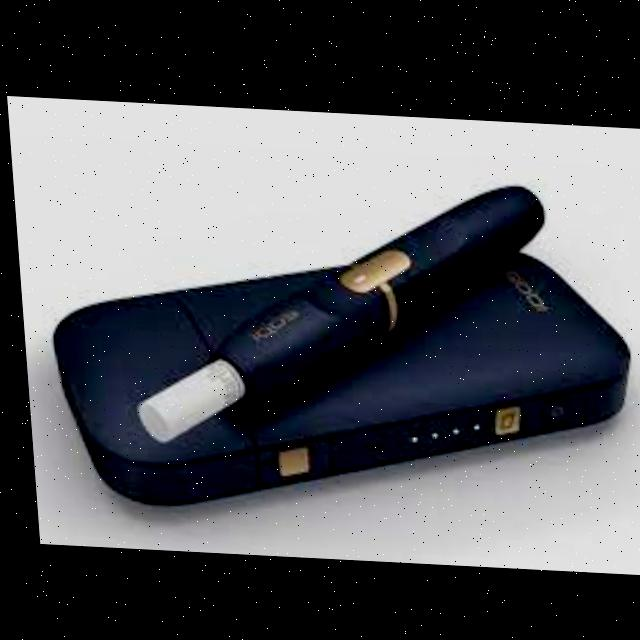vape: (41, 227, 636, 525), (115, 163, 557, 459)
